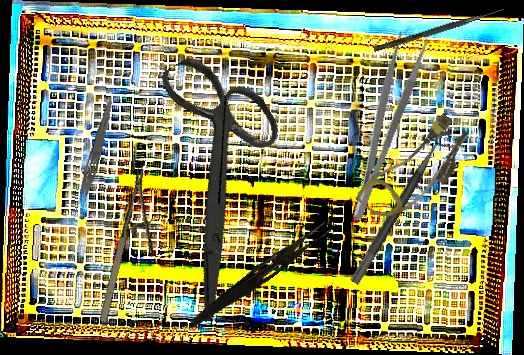Cannula: (353, 102, 479, 237)
Dressing Forceps: (332, 28, 432, 225), (188, 215, 333, 335), (70, 98, 116, 221)
Fixation Ring: (349, 127, 463, 293)
Hook Surgical: (373, 5, 505, 54)
Iris Scissors: (83, 35, 347, 323)
Needle Holder: (94, 166, 176, 330)
